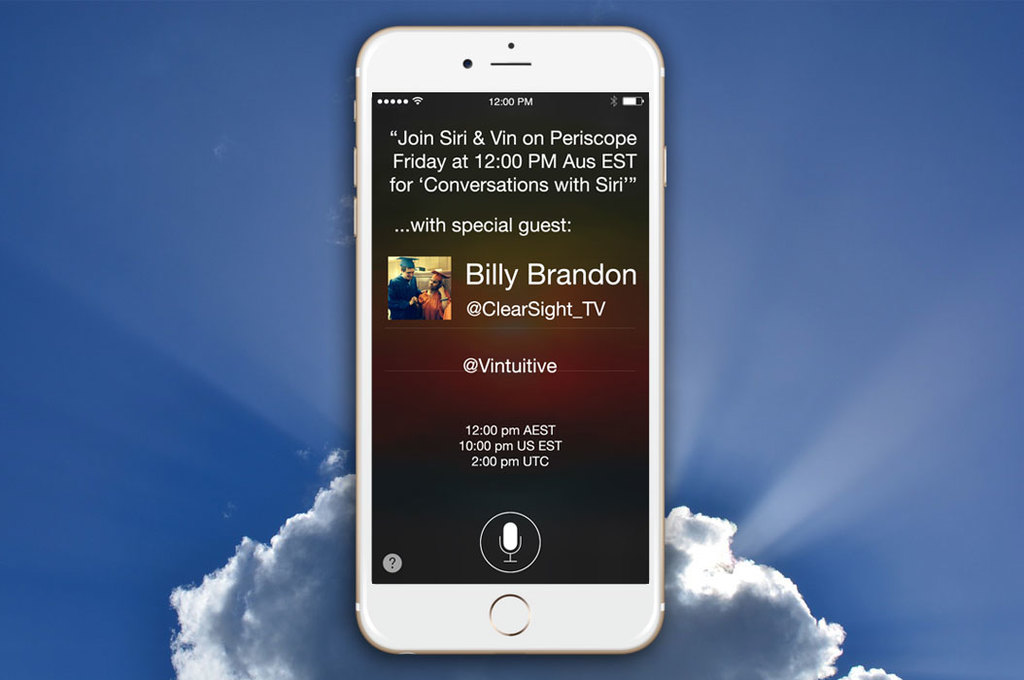mobile phone: (342, 13, 686, 671)
